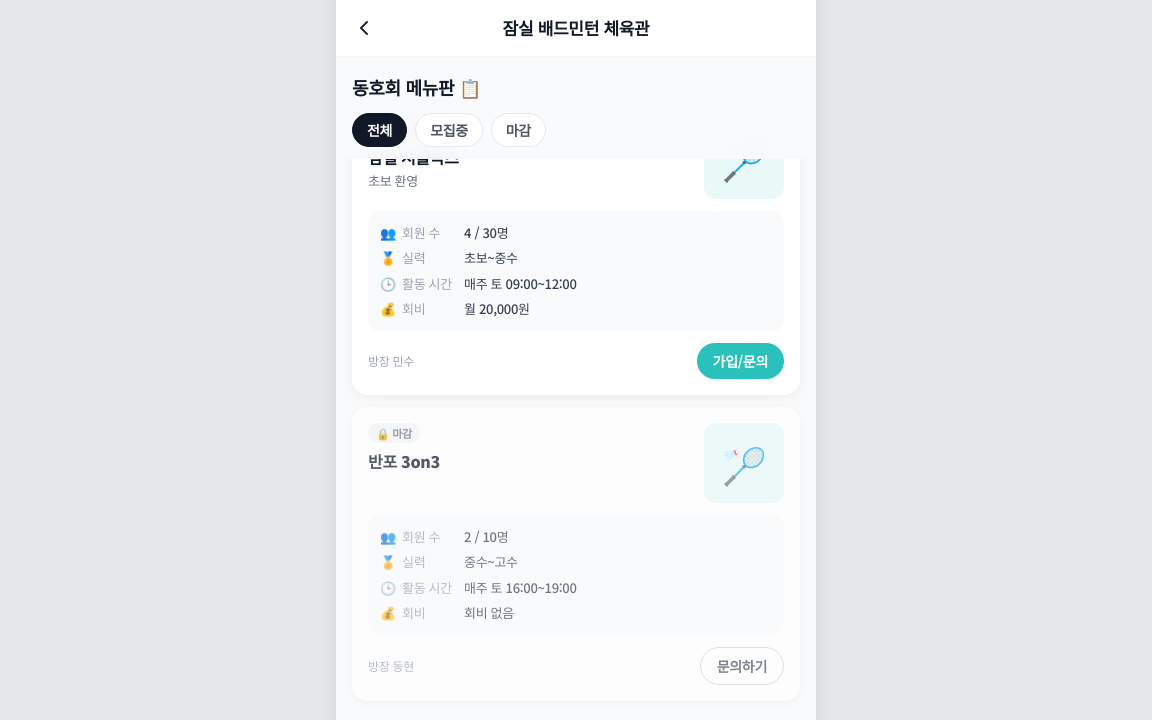
Test: 동호회 가입 신청 › 로그인 상태에서 누르면 토큰을 담아 신청하고, 완료 모달과 함께 버튼이 신청 완료로 바뀐다
(page scrolled)
Click the button "가입/문의" at (740, 360), box [697,342,784,378]
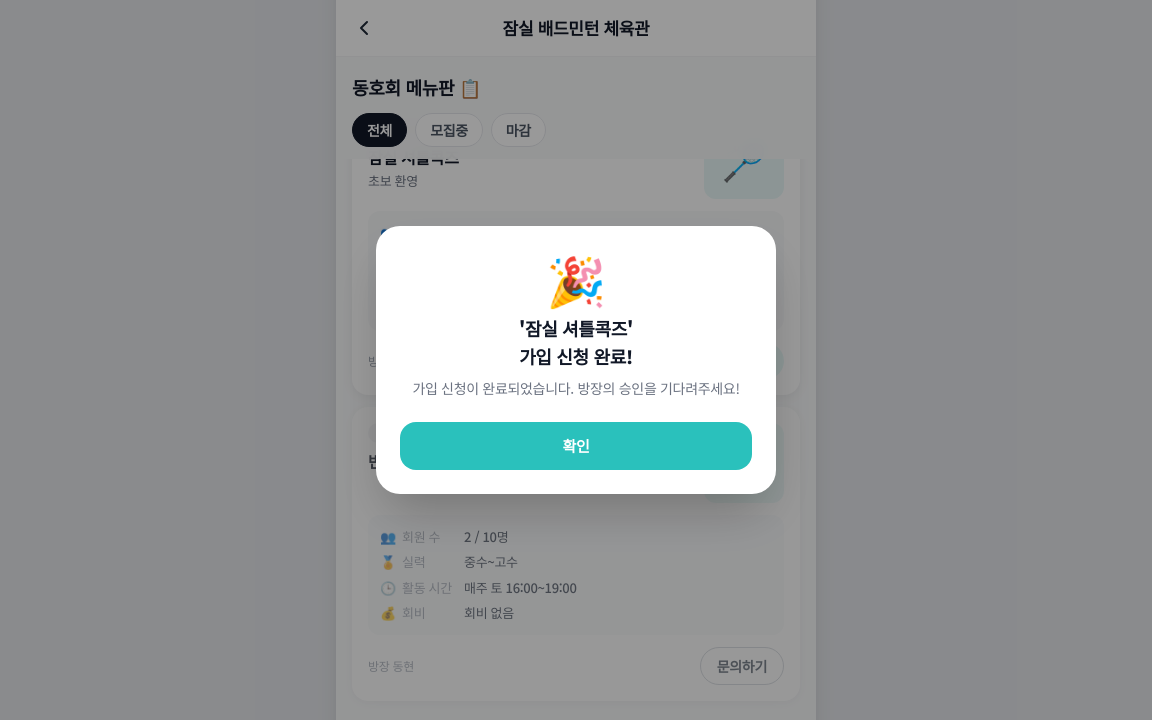
Expected: the dialog shows "가입 신청이 완료되었습니다. 방장의 승인을 기다려주세요!", [412,378,740,398]
Expected: the button "✓ 신청 완료" is disabled, [682,342,784,378]
Click the button "확인" at (576, 446), box [400,422,752,470]
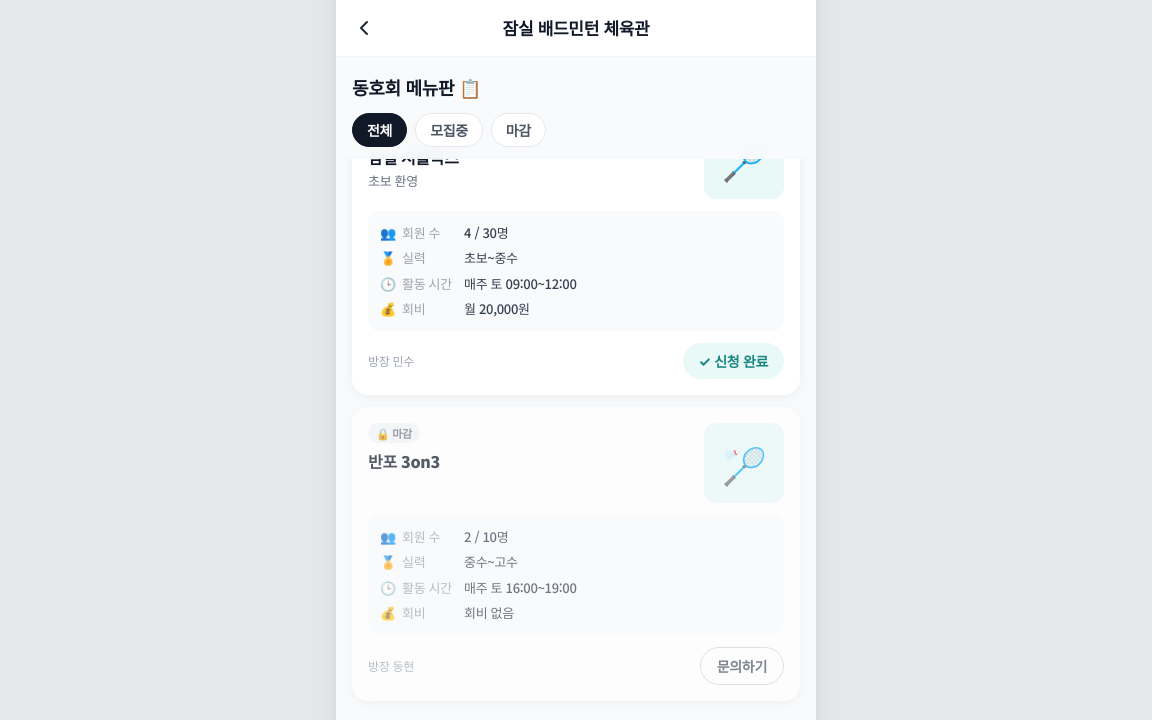
Expected: the dialog is gone
